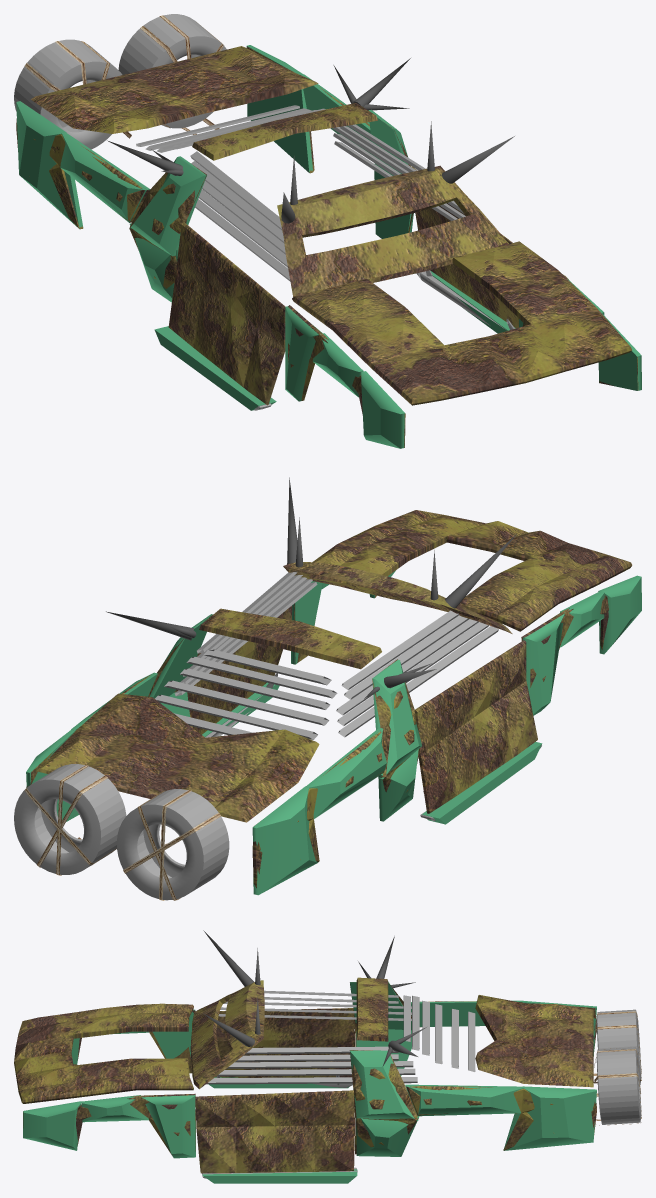
File: Charger Armor.fbx
3 views of the same model, one above another, from view 1: azimuth 30°, elevation 25°; view 2: azimuth 150°, elevation 25°; view 3: azimuth 270°, elevation 25° (orthographic). The views are drawn at different scales.
Parts seen in each view (by area): view 1: Hood_Armor, Windshield, Back_Piece_Armor, Right_Side_Armor, Spare_Tire01_Geo, Spare_Tire02_Geo, Top_Top_Piece_Armor, polySurface22, polySurface16, polySurface20, polySurface10, Left_Side_Armor (+25 smaller); view 2: Back_Piece_Armor, Hood_Armor, Right_Side_Armor, Spare_Tire01_Geo, Spare_Tire02_Geo, Top_Top_Piece_Armor, polySurface22, Windshield, polySurface20, Left_Side_Armor, polySurface16, polySurface14 (+25 smaller); view 3: Left_Side_Armor, Hood_Armor, Back_Piece_Armor, Right_Side_Armor, Windshield, polySurface21, Spare_Tire02_Geo, polySurface19, polySurface15, polySurface13, polySurface9, Top_Top_Piece_Armor (+24 smaller).
Boxes of the visible parts, left/top/right/bottom form: Hood_Armor: left=292, top=241, right=631, bottom=405; Windshield: left=277, top=165, right=508, bottom=296; Back_Piece_Armor: left=31, top=46, right=318, bottom=133; Right_Side_Armor: left=168, top=222, right=285, bottom=405; Spare_Tire01_Geo: left=14, top=39, right=122, bottom=149; Spare_Tire02_Geo: left=118, top=14, right=226, bottom=128; Top_Top_Piece_Armor: left=192, top=103, right=377, bottom=160; polySurface22: left=16, top=101, right=83, bottom=229; polySurface16: left=130, top=156, right=206, bottom=256; polySurface20: left=60, top=132, right=150, bottom=222; polySurface10: left=361, top=371, right=405, bottom=448; Left_Side_Armor: left=412, top=166, right=519, bottom=328; Back_Piece_Armor: left=36, top=693, right=319, bottom=822; Hood_Armor: left=312, top=510, right=632, bottom=631; Right_Side_Armor: left=414, top=640, right=537, bottom=813; Spare_Tire01_Geo: left=116, top=789, right=229, bottom=900; Spare_Tire02_Geo: left=14, top=764, right=126, bottom=874; Top_Top_Piece_Armor: left=199, top=608, right=381, bottom=669; polySurface22: left=252, top=786, right=317, bottom=895; Windshield: left=283, top=562, right=512, bottom=633; polySurface20: left=306, top=727, right=386, bottom=818; Left_Side_Armor: left=187, top=605, right=292, bottom=734; polySurface16: left=372, top=659, right=421, bottom=779; polySurface14: left=523, top=613, right=564, bottom=715; Left_Side_Armor: left=195, top=1090, right=354, bottom=1173; Hood_Armor: left=14, top=1003, right=193, bottom=1103; Back_Piece_Armor: left=475, top=995, right=593, bottom=1087; Right_Side_Armor: left=215, top=1008, right=354, bottom=1077; Windshield: left=190, top=980, right=264, bottom=1089; polySurface21: left=504, top=1086, right=596, bottom=1150; Spare_Tire02_Geo: left=596, top=1047, right=641, bottom=1124; polySurface19: left=405, top=1084, right=523, bottom=1116; polySurface15: left=350, top=1050, right=418, bottom=1120; polySurface13: left=141, top=1095, right=195, bottom=1158; polySurface9: left=23, top=1101, right=81, bottom=1150; Top_Top_Piece_Armor: left=356, top=977, right=388, bottom=1041.
Size of what is drawn, in the model's own units: 2.43 by 1.57 by 5.54.
